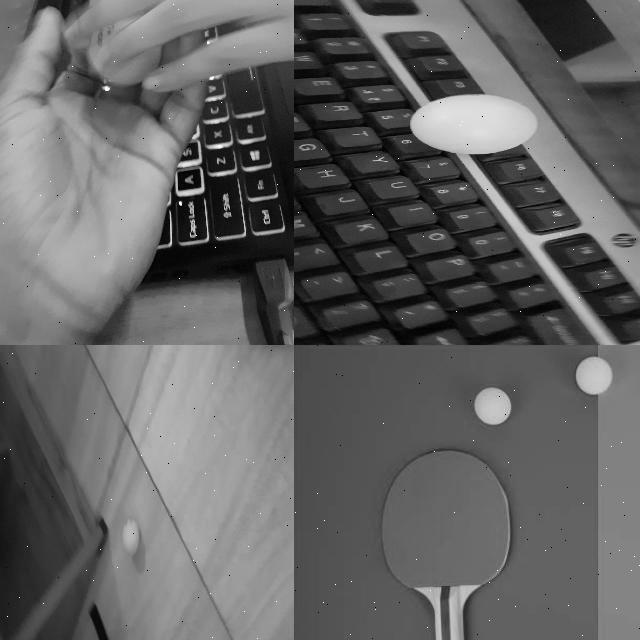ping-pong-ball: (412, 94, 540, 155), (84, 18, 160, 82), (576, 356, 614, 392), (474, 388, 512, 422), (122, 519, 140, 557)
